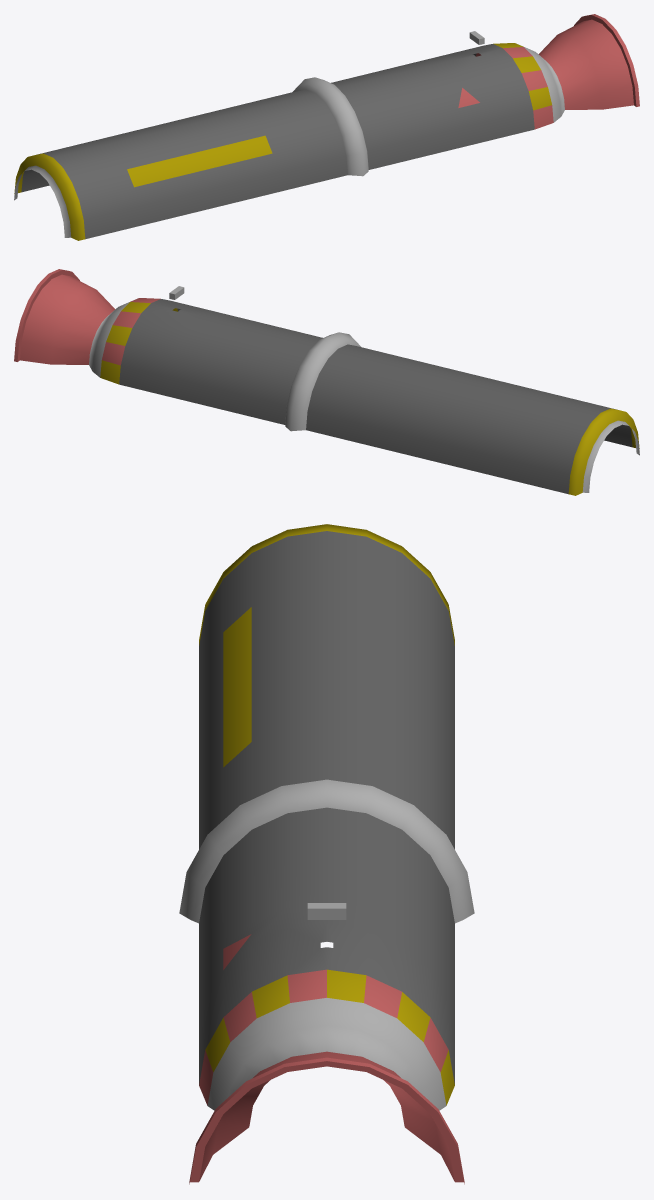
Rendered from Flamethrower.fbx.
The picture shows the model from 3 angles, top to bottom: view 1: azimuth 30°, elevation 25°; view 2: azimuth 150°, elevation 25°; view 3: azimuth 270°, elevation 25°; orthographic projection. The views are drawn at different scales.
Parts seen in each view (by area): view 1: geo_flamethrower; view 2: geo_flamethrower; view 3: geo_flamethrower.
Boxes of the visible parts, bbox=[...] form: geo_flamethrower: bbox=[14, 14, 639, 240]; geo_flamethrower: bbox=[14, 269, 639, 495]; geo_flamethrower: bbox=[179, 524, 474, 1184].
Bounding box in the file's own units: 10.22 × 1.33 × 2.31.
